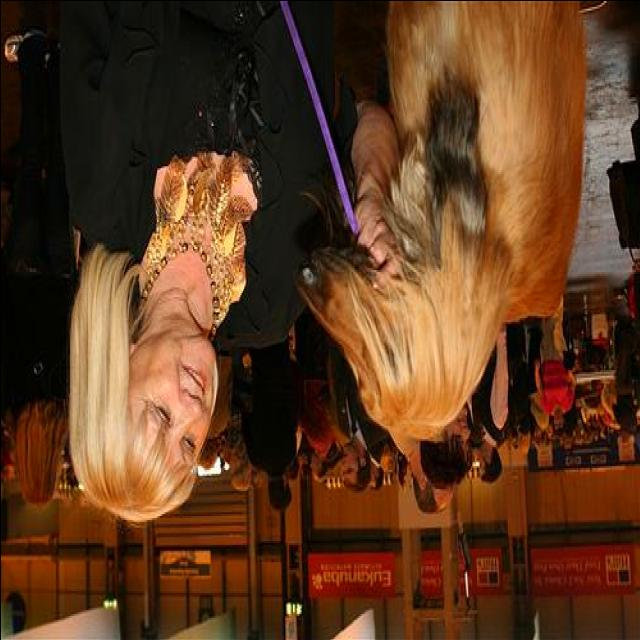afghan_hound: (293, 2, 588, 442)
